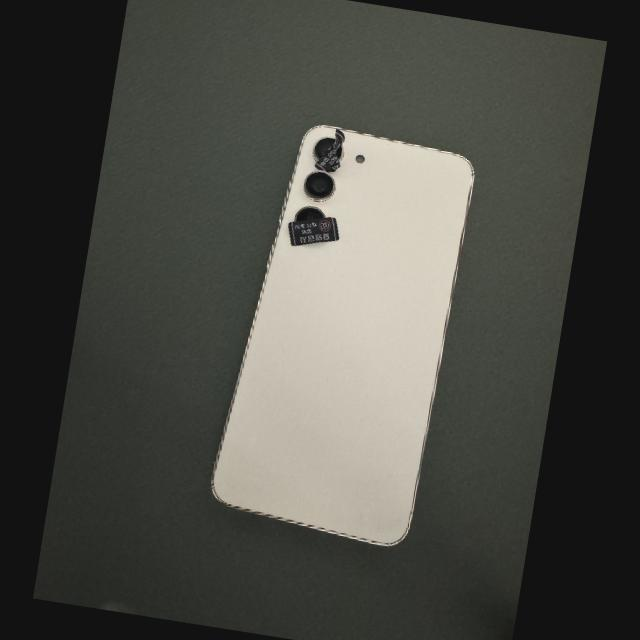lens: (304, 171, 335, 201), (314, 138, 334, 161), (295, 207, 325, 221)
phone: (213, 125, 473, 545)
sticker: (288, 217, 339, 246), (314, 128, 345, 172)
